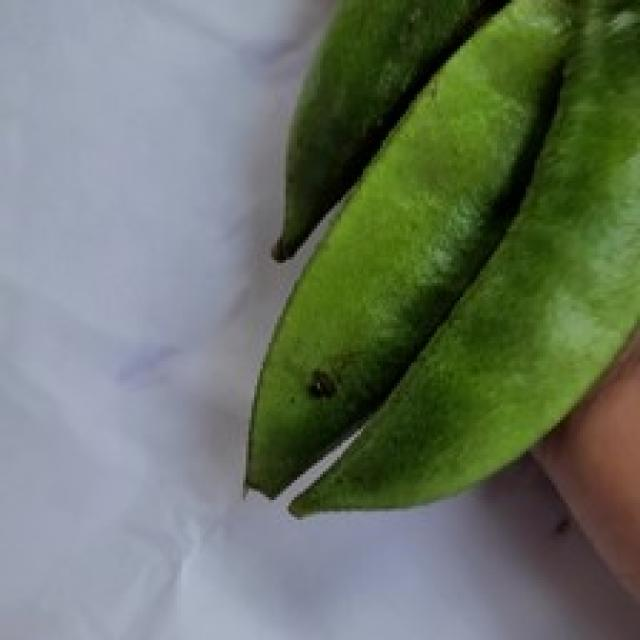Bean: (243, 0, 637, 517)
